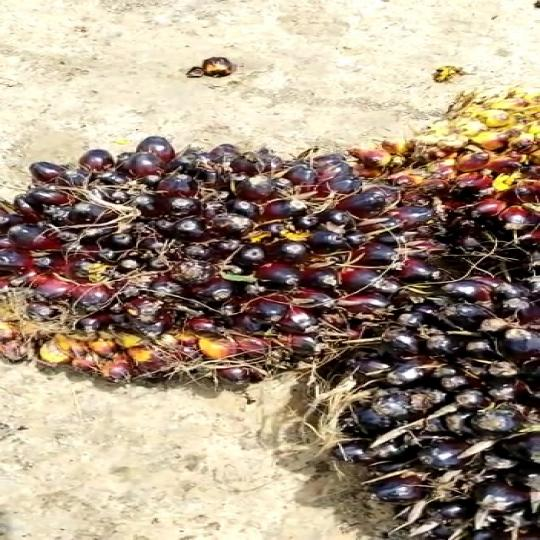mentah: (1, 124, 420, 403), (317, 257, 540, 537)
